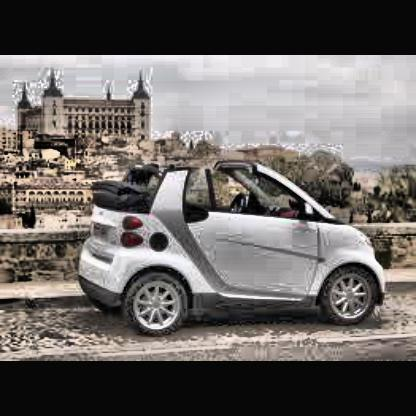smart fortwo Convertible 2012: (75, 158, 395, 340)
